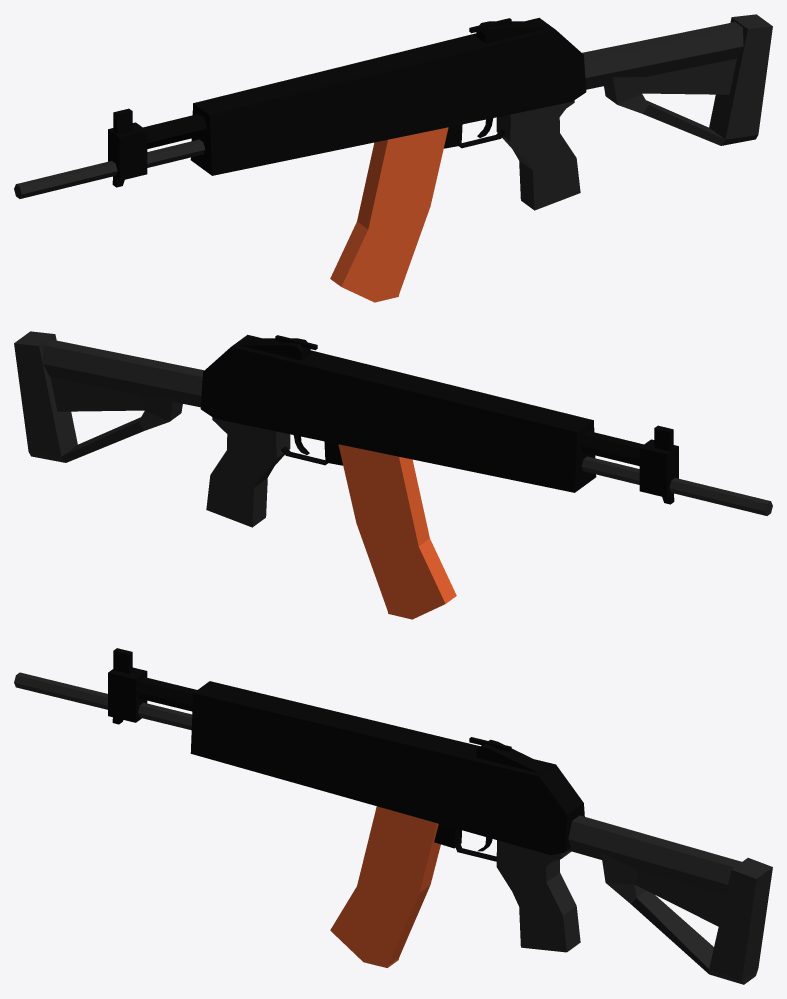
The picture shows the model from 3 angles, top to bottom: view 1: azimuth 30°, elevation 25°; view 2: azimuth 150°, elevation 25°; view 3: azimuth 330°, elevation 25°; orthographic projection.
Parts seen in each view (by area): view 1: 큐브; view 2: 큐브; view 3: 큐브.
Part boxes in pixels (x1,y1,x2,y2): 큐브: (14, 14, 772, 302); 큐브: (14, 331, 772, 619); 큐브: (14, 648, 772, 984).
Bounding box in the file's own units: 448 × 142 × 22.25.
